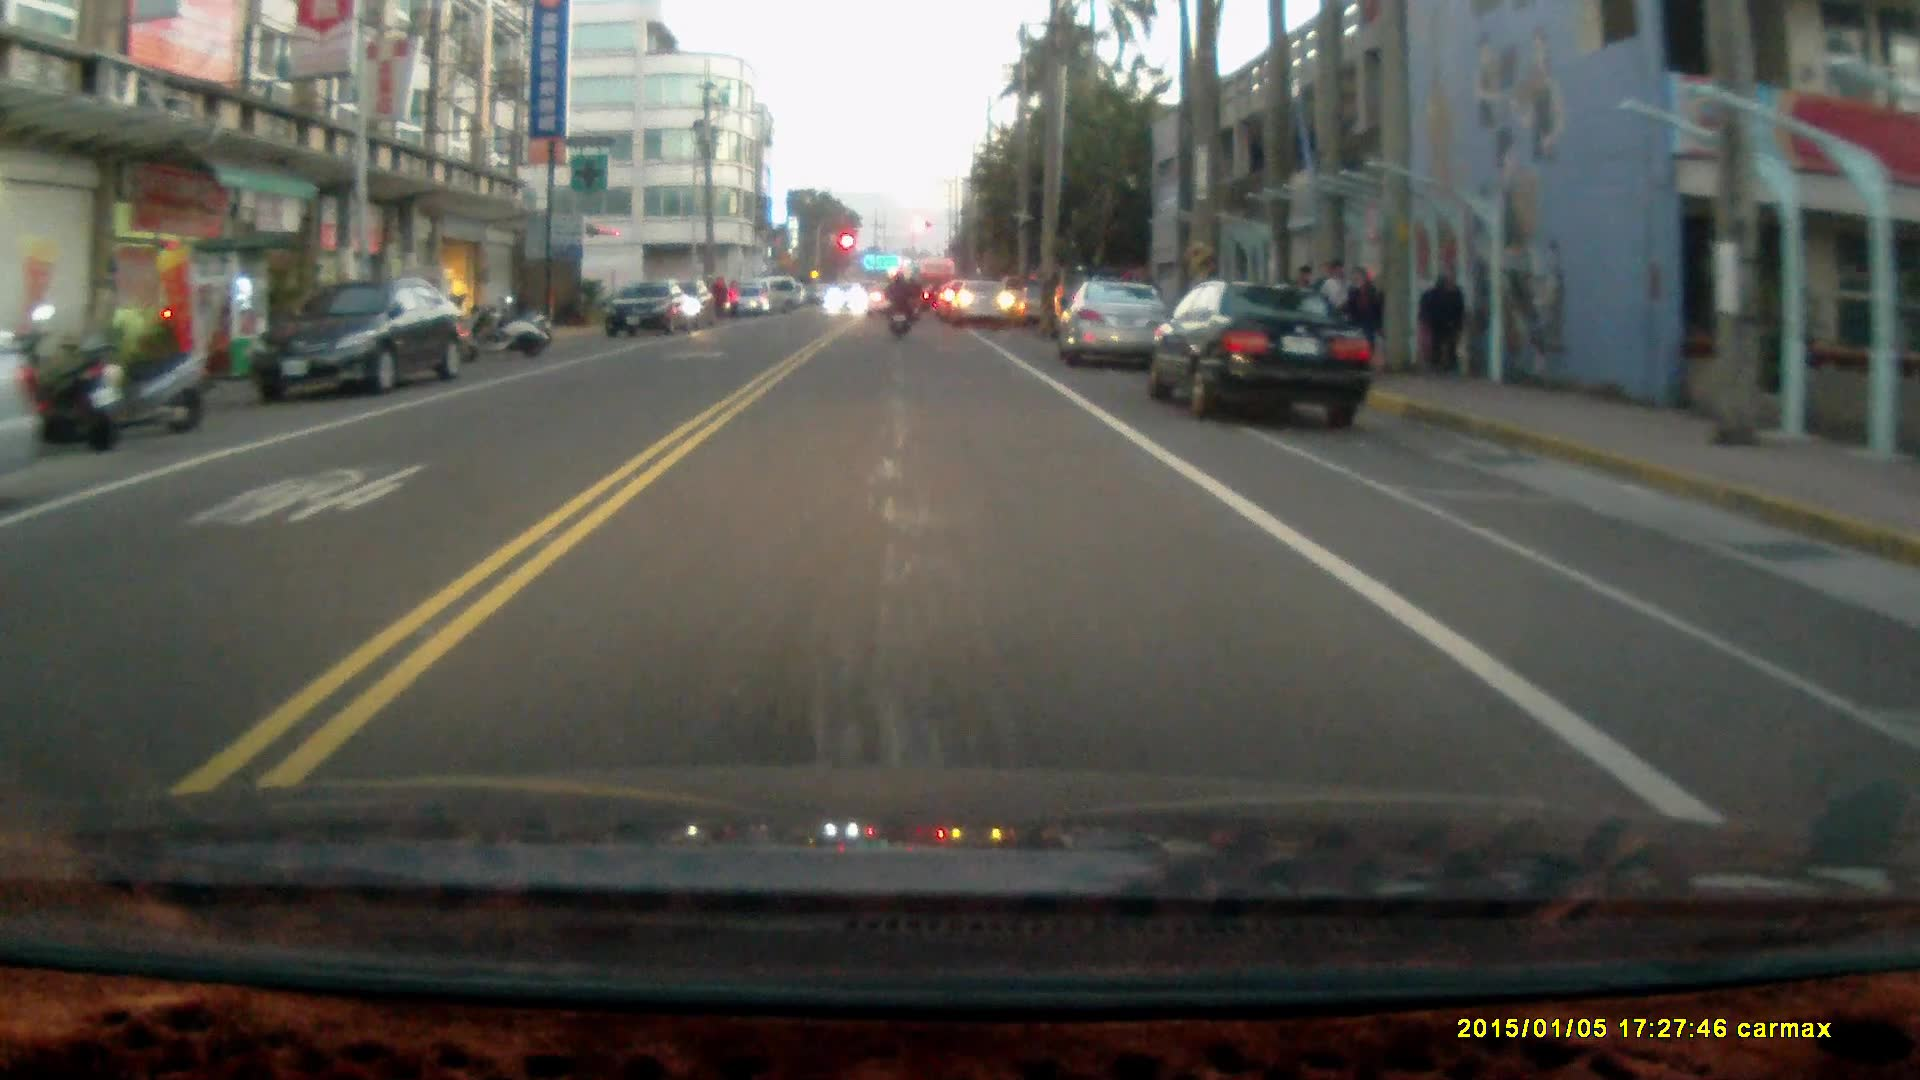pedestrian: (1418, 266, 1469, 382), (1335, 270, 1382, 372), (1318, 254, 1354, 354)
rider: (882, 271, 913, 344)
vehicle: (1146, 284, 1380, 443), (254, 282, 468, 408), (1060, 291, 1178, 386), (599, 277, 698, 339), (962, 289, 1018, 340)
